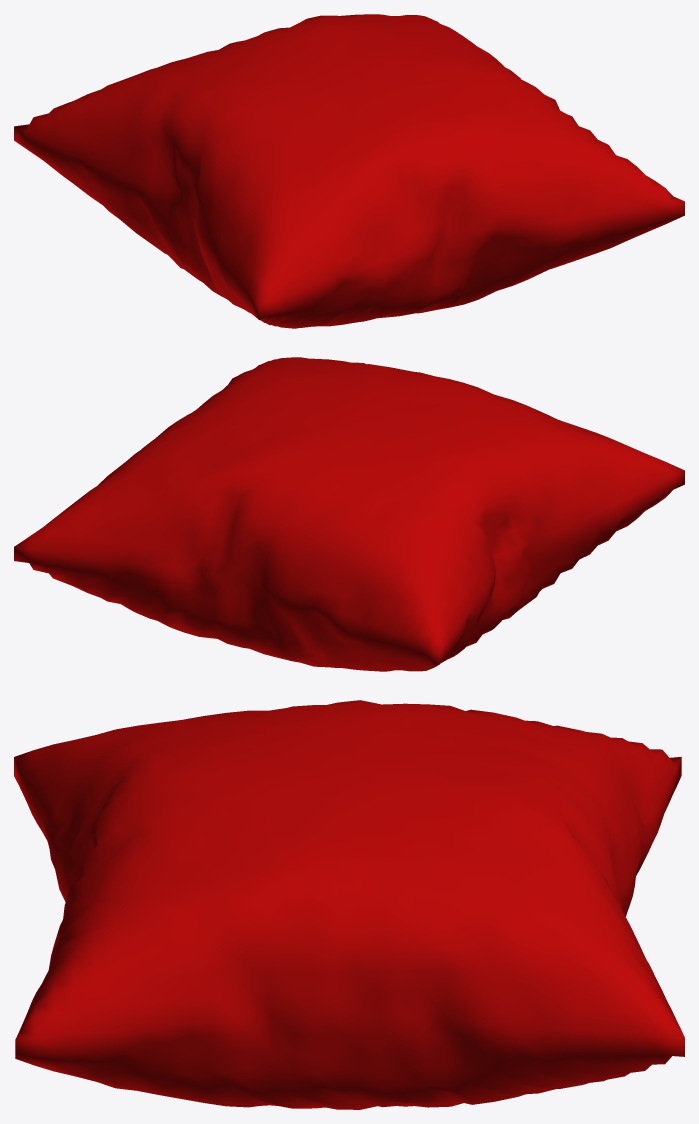
The model's file is cushion.glb.
3 views of the same model, one above another, from view 1: azimuth 30°, elevation 25°; view 2: azimuth 150°, elevation 25°; view 3: azimuth 270°, elevation 25° (orthographic). The views are drawn at different scales.
Visible parts, largest first — view 1: Cube; view 2: Cube; view 3: Cube.
Part boxes in pixels (x1,y1,x2,y2): Cube: [14, 14, 684, 328]; Cube: [14, 357, 684, 671]; Cube: [14, 700, 684, 1109].
Size of the model in its own units: 190 by 85.97 by 190.
